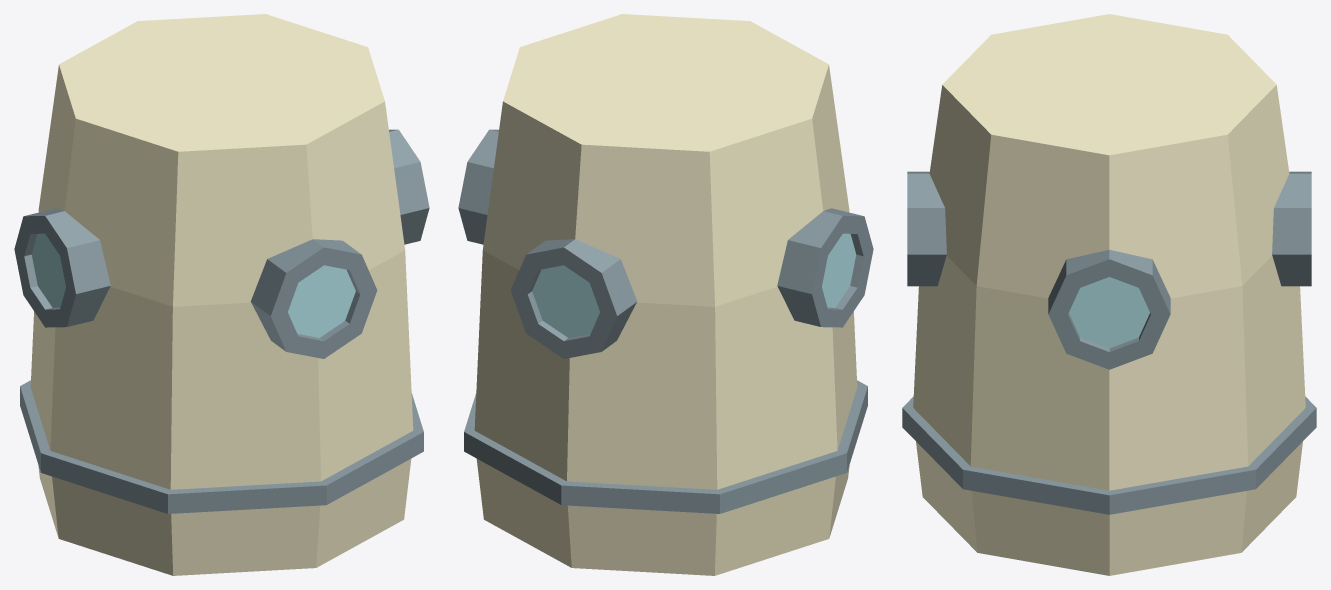
The model's file is body01.gltf.
The picture shows the model from 3 angles, left to right: view 1: azimuth 30°, elevation 25°; view 2: azimuth 150°, elevation 25°; view 3: azimuth 270°, elevation 25°; orthographic projection.
Visible parts, largest first — view 1: body01_Rocket_Ship_Circle.024; view 2: body01_Rocket_Ship_Circle.024; view 3: body01_Rocket_Ship_Circle.024.
Part boxes in pixels (<box>): body01_Rocket_Ship_Circle.024: <box>14,14,429,575</box>; body01_Rocket_Ship_Circle.024: <box>458,14,873,575</box>; body01_Rocket_Ship_Circle.024: <box>902,14,1316,575</box>.
Bounding box in the file's own units: 4.13 × 4.53 × 4.13.
